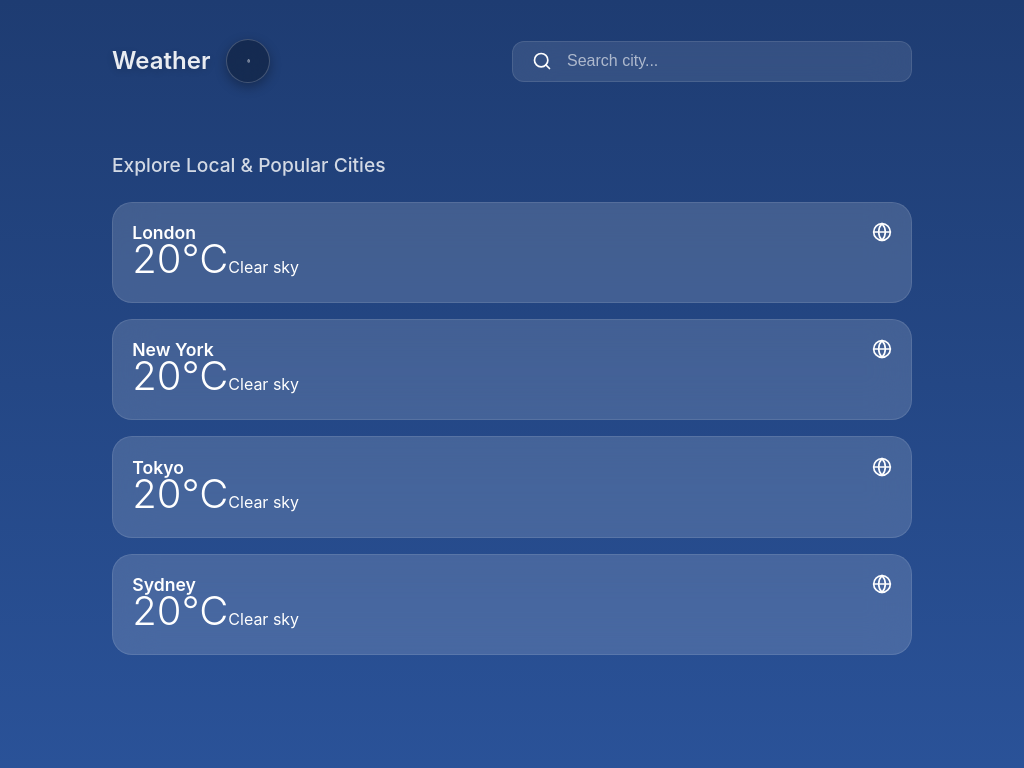
App › opens the detailed forecast when a city tile is clicked
This screenshot has width=1024, height=768.
Click the text "Tokyo" at (158, 467), box [132,457,184,478]
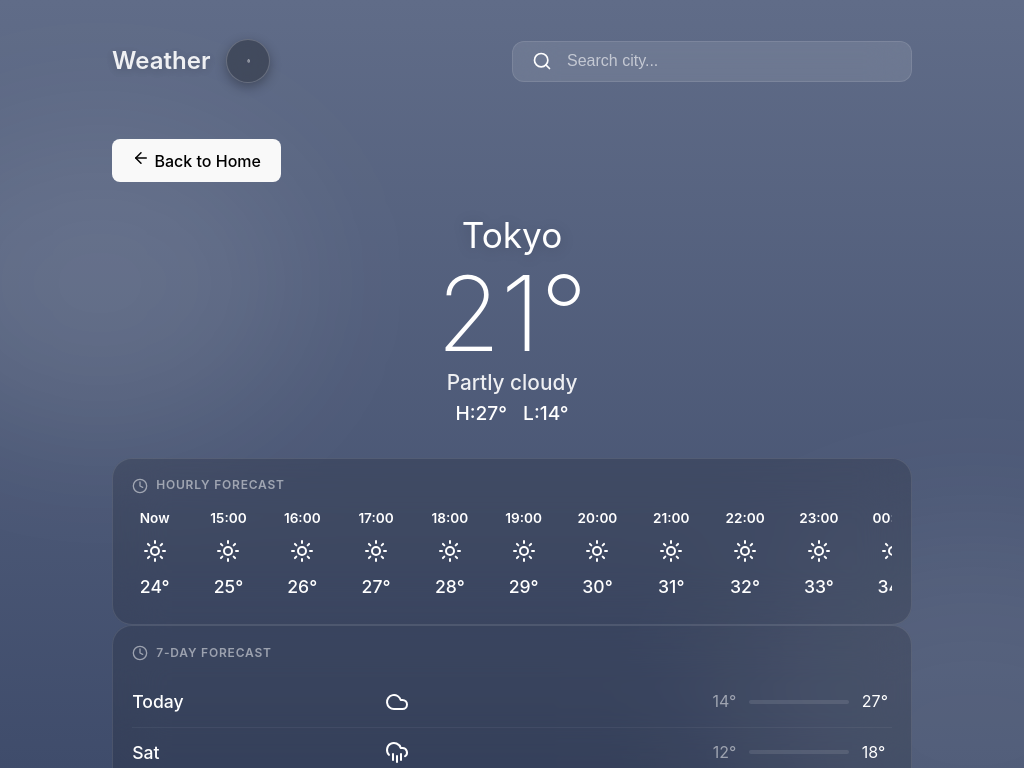
Check: the text "Partly cloudy" is shown, box [447,371,577,396]
Check: the text "H:27°" is shown, box [455,402,507,426]
Check: the text "Now" is shown, box [140,510,170,526]
